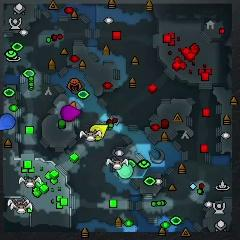p1: (0, 113, 16, 131)
p2: (116, 163, 133, 179)
p3: (60, 105, 82, 121)
p4: (90, 123, 109, 141)
